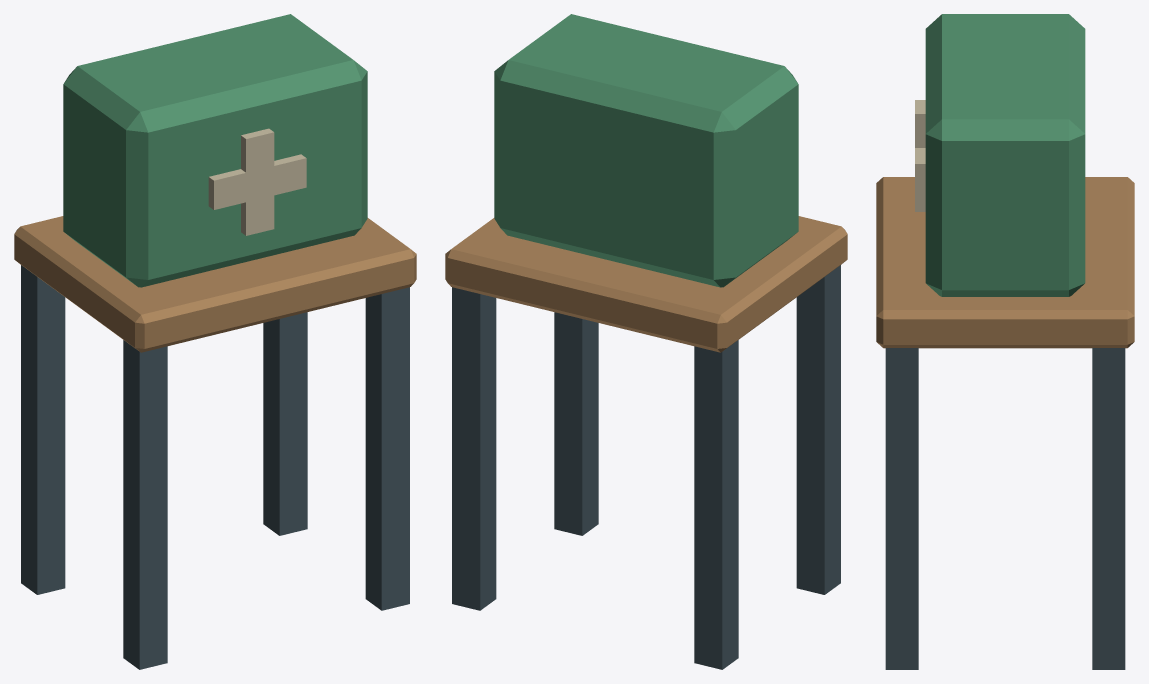
Rendered from first_aid_station.glb.
3 renders of one model, left to right at view 1: azimuth 30°, elevation 25°; view 2: azimuth 150°, elevation 25°; view 3: azimuth 270°, elevation 25°, orthographic.
Visible parts, largest first — view 1: first_aid_station; view 2: first_aid_station; view 3: first_aid_station.
Part boxes in pixels (box(x1,y1,x2,y2)): first_aid_station: box(14, 14, 416, 669); first_aid_station: box(445, 14, 847, 669); first_aid_station: box(876, 14, 1134, 669).
Size of the model in its own units: 0.7 by 1.26 by 0.55.
